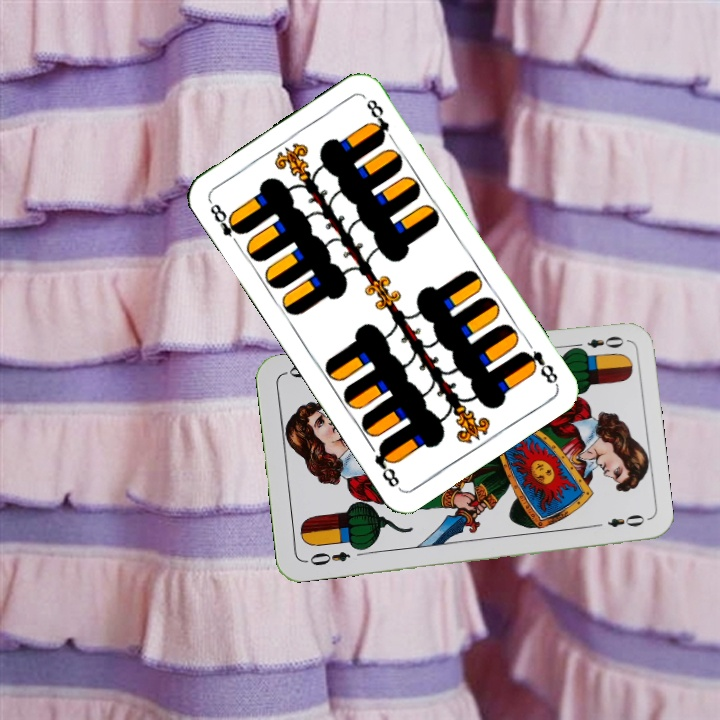E8: (206, 199, 247, 249), (516, 346, 561, 387)
EO: (569, 332, 627, 355), (301, 547, 353, 569)
